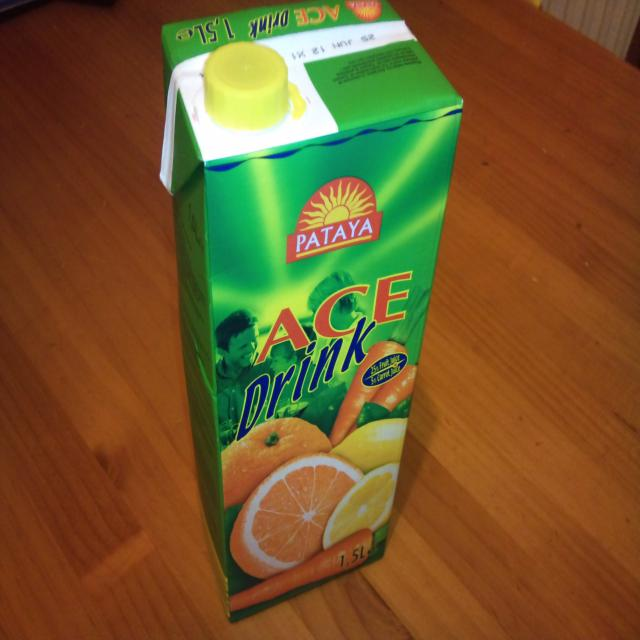cardboard: (159, 1, 452, 622)
